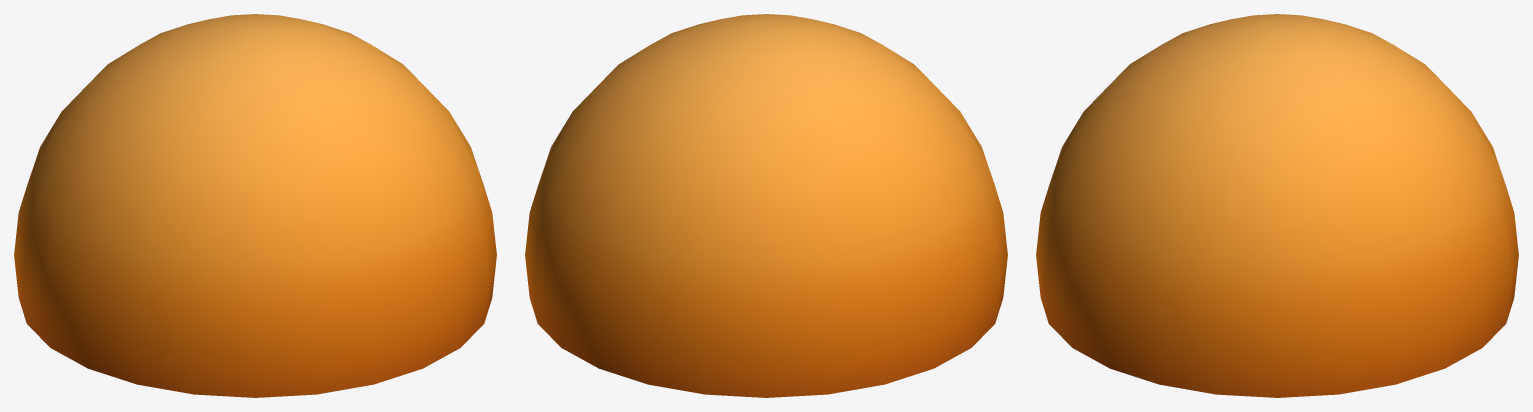
File: Big_Sphere.fbx
3 renders of one model, left to right at view 1: azimuth 30°, elevation 25°; view 2: azimuth 150°, elevation 25°; view 3: azimuth 270°, elevation 25°, orthographic.
Visible parts, largest first — view 1: Sphere.004; view 2: Sphere.004; view 3: Sphere.004.
Boxes of the visible parts, x1,y1,x2,y2 form: Sphere.004: (14, 14, 496, 397); Sphere.004: (525, 14, 1007, 397); Sphere.004: (1036, 14, 1518, 397).
Size of the model in its own units: 331 by 198 by 331.
